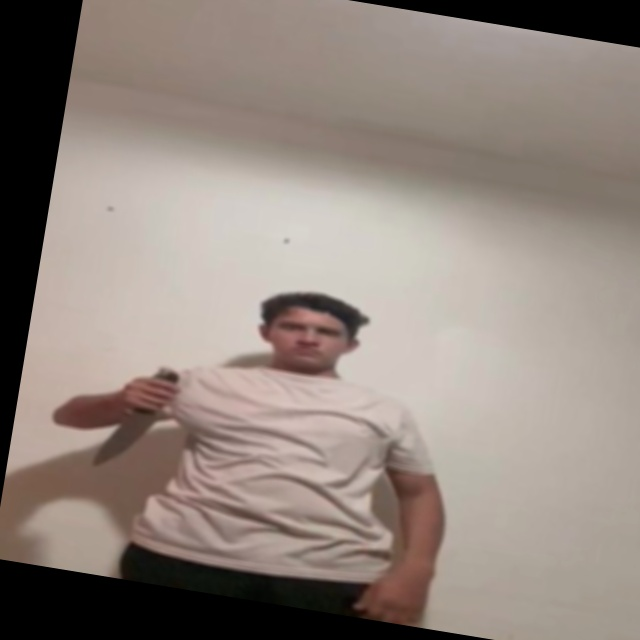Sharp-Object: (88, 404, 163, 471)
